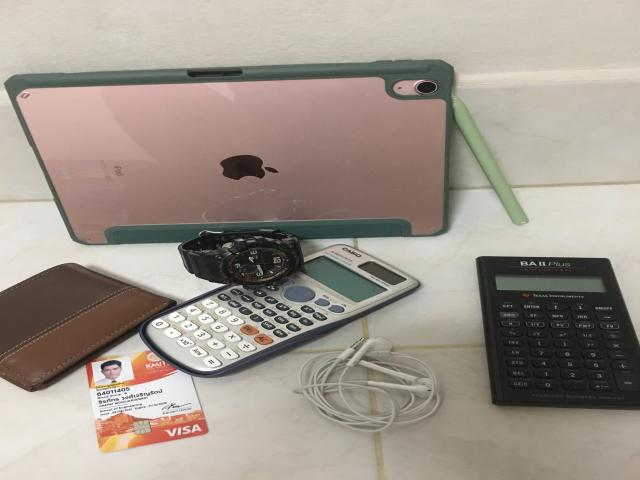Wallet: (0, 263, 177, 391)
Watch: (178, 228, 303, 289)
wire: (293, 338, 442, 432)
